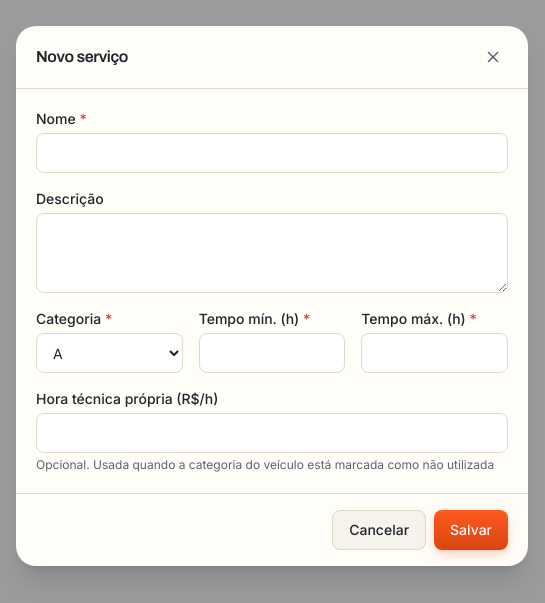
ServicoFormModal › shows a validation error when submitting without a nome
The width and height of the screenshot is (545, 603).
Type "1" into the number field labelled "Tempo mín. (h)".
click(272, 353); type("1")  # box [199, 333, 345, 373]
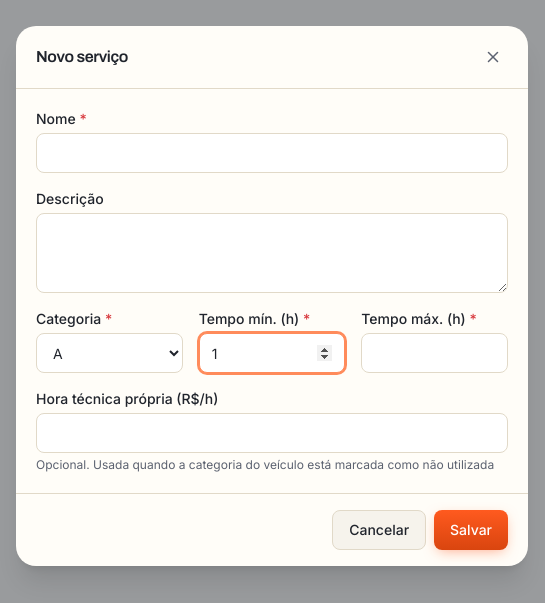
Type "2" into the number field labelled "Tempo máx. (h)".
click(435, 353); type("2")  # box [361, 333, 508, 373]
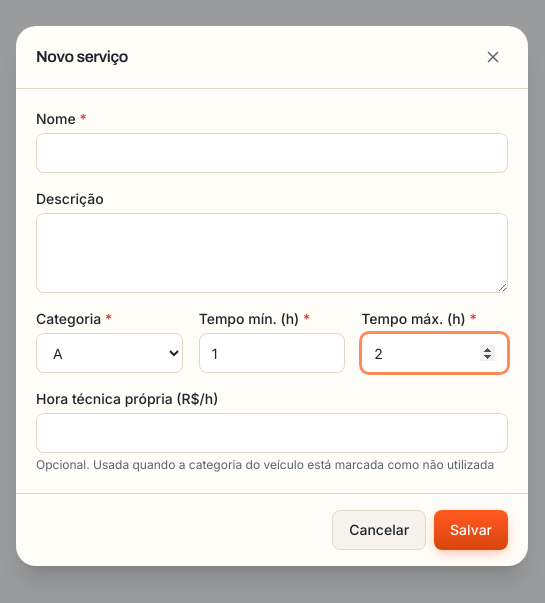
Click the button "Salvar".
click(471, 530)  # box [434, 510, 508, 550]
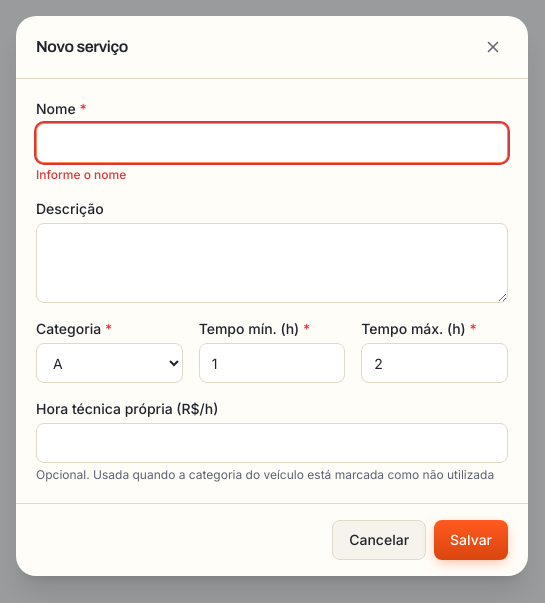
Expected: the text "Informe o nome" is shown, [36, 167, 126, 182]
